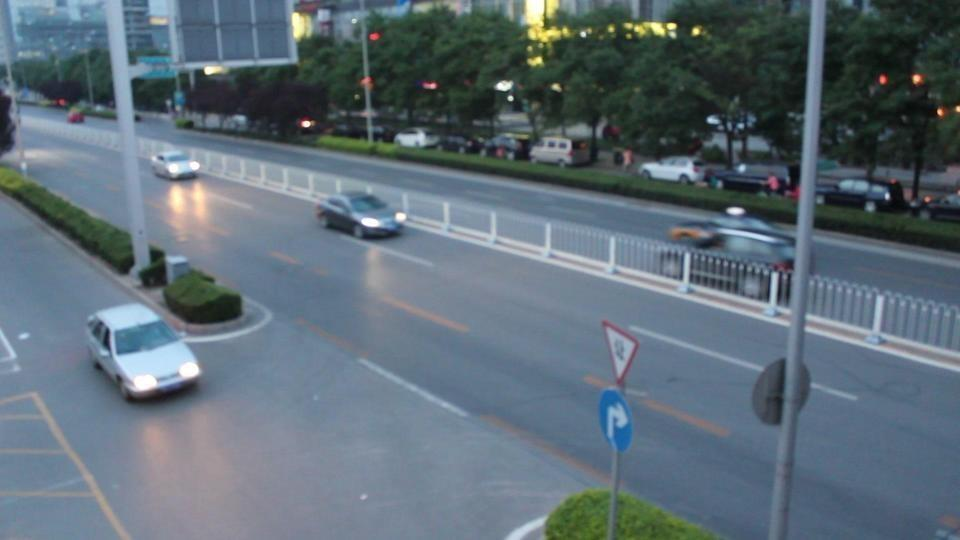car: (85, 301, 202, 402), (669, 224, 795, 273), (314, 192, 405, 239), (814, 177, 909, 212), (705, 163, 791, 196), (529, 138, 593, 168), (639, 158, 706, 186), (150, 149, 202, 180), (667, 224, 722, 248), (482, 135, 531, 161), (922, 193, 960, 222), (394, 128, 442, 150)
